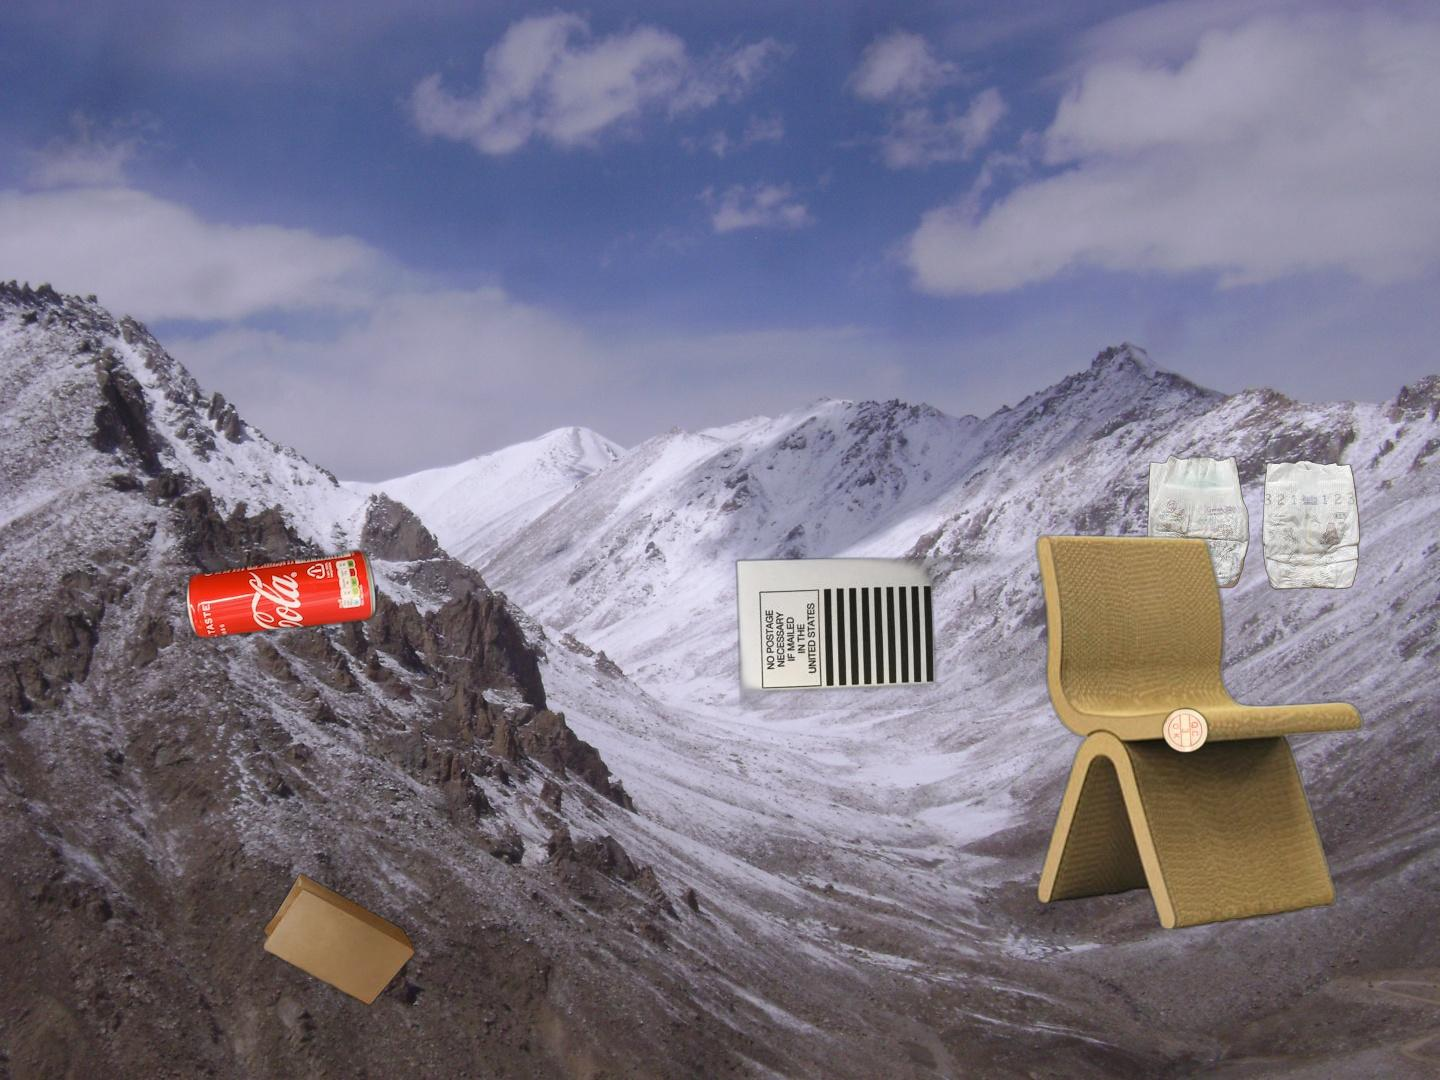metal-cans: (181, 543, 381, 646)
paper: (732, 548, 1087, 710)
paper-bag: (159, 869, 417, 1080)
trash: (1145, 452, 1363, 593)
trashbox-cardboard: (1030, 531, 1370, 930), (950, 549, 1440, 777)
